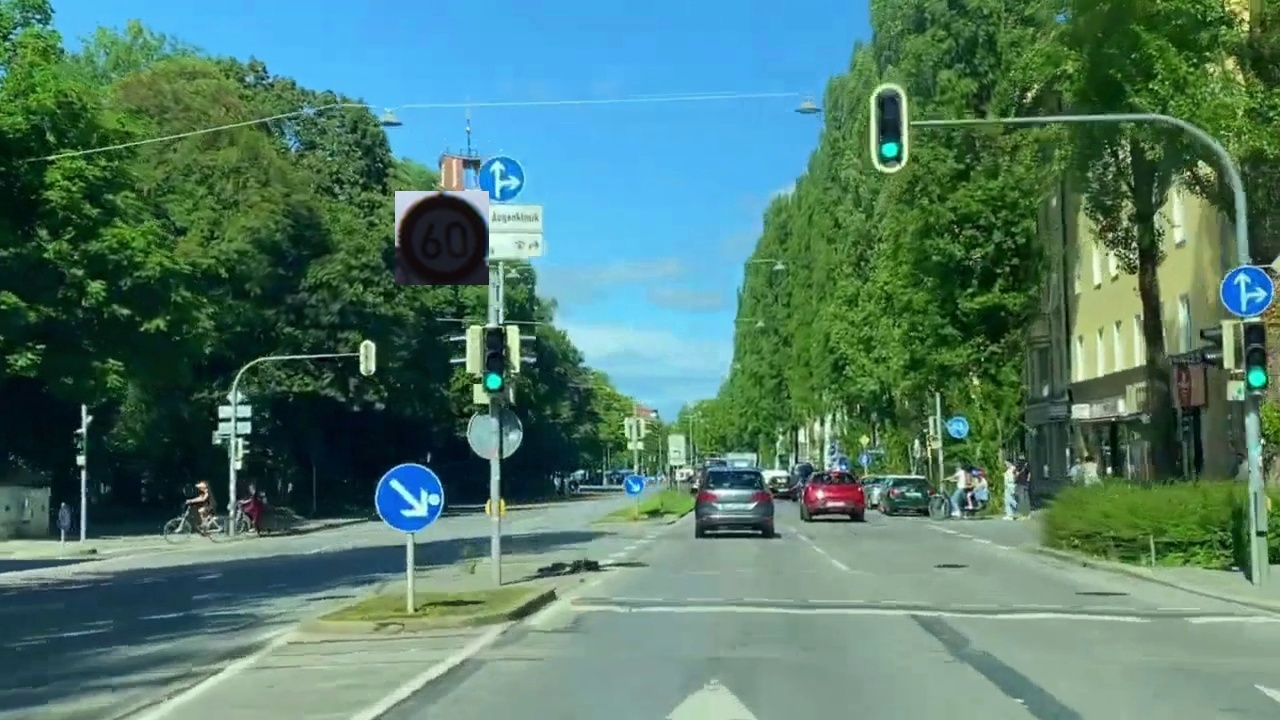Speed 60: (395, 191, 489, 285)
